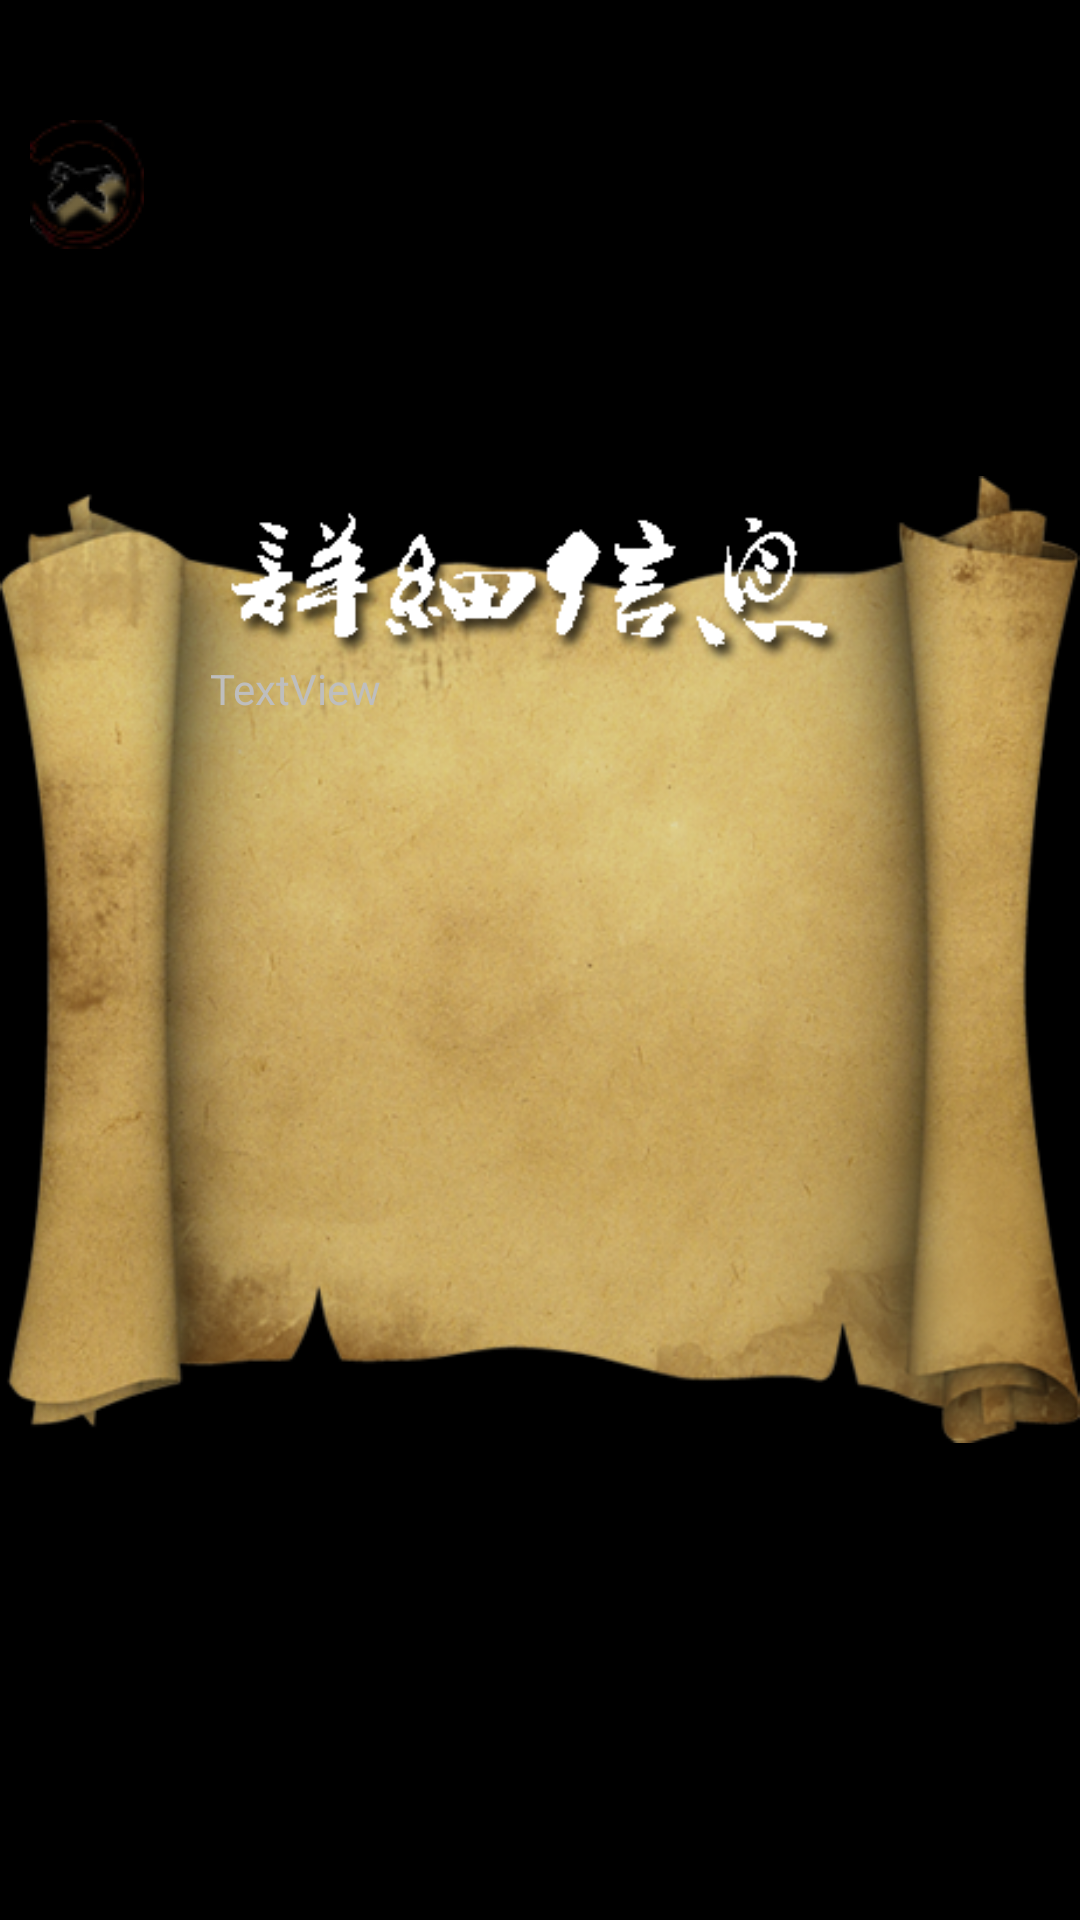

Named icons in this screenshot (1080x1920) and their bounding boxes, (x1, y1, x2, y2):
closewin: (30, 120, 144, 249)
